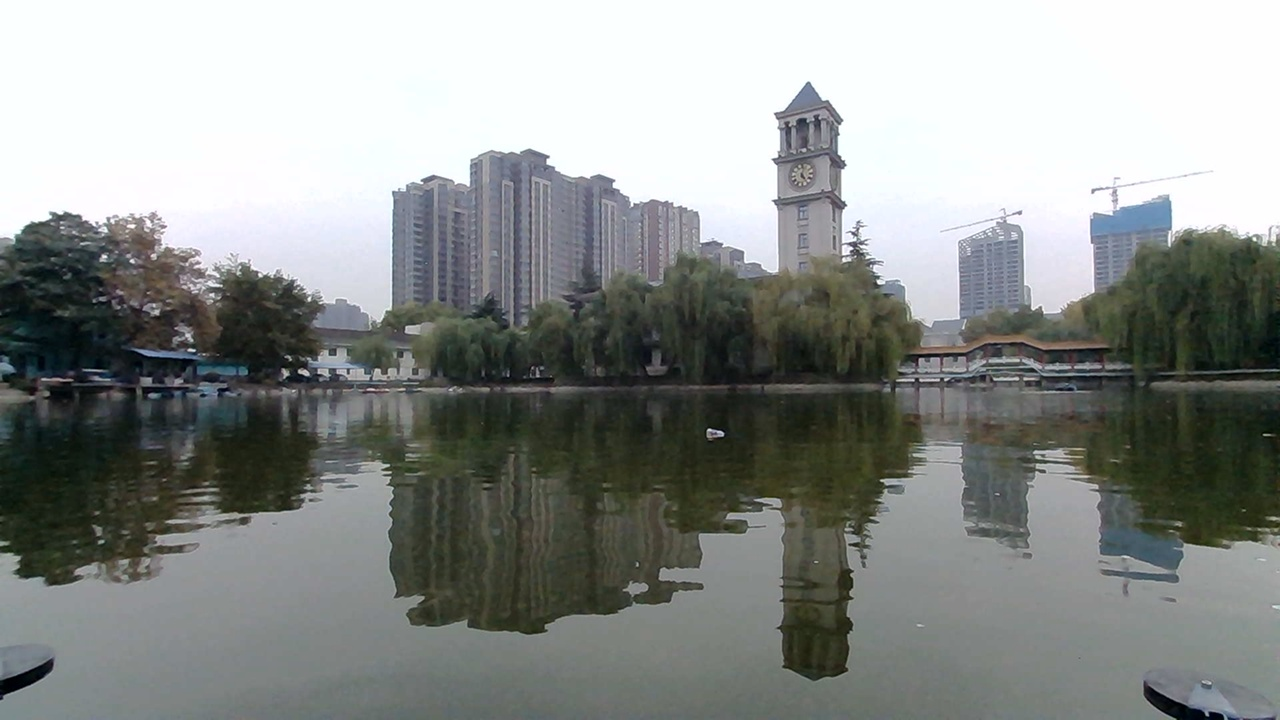bottle: (699, 416, 738, 446)
